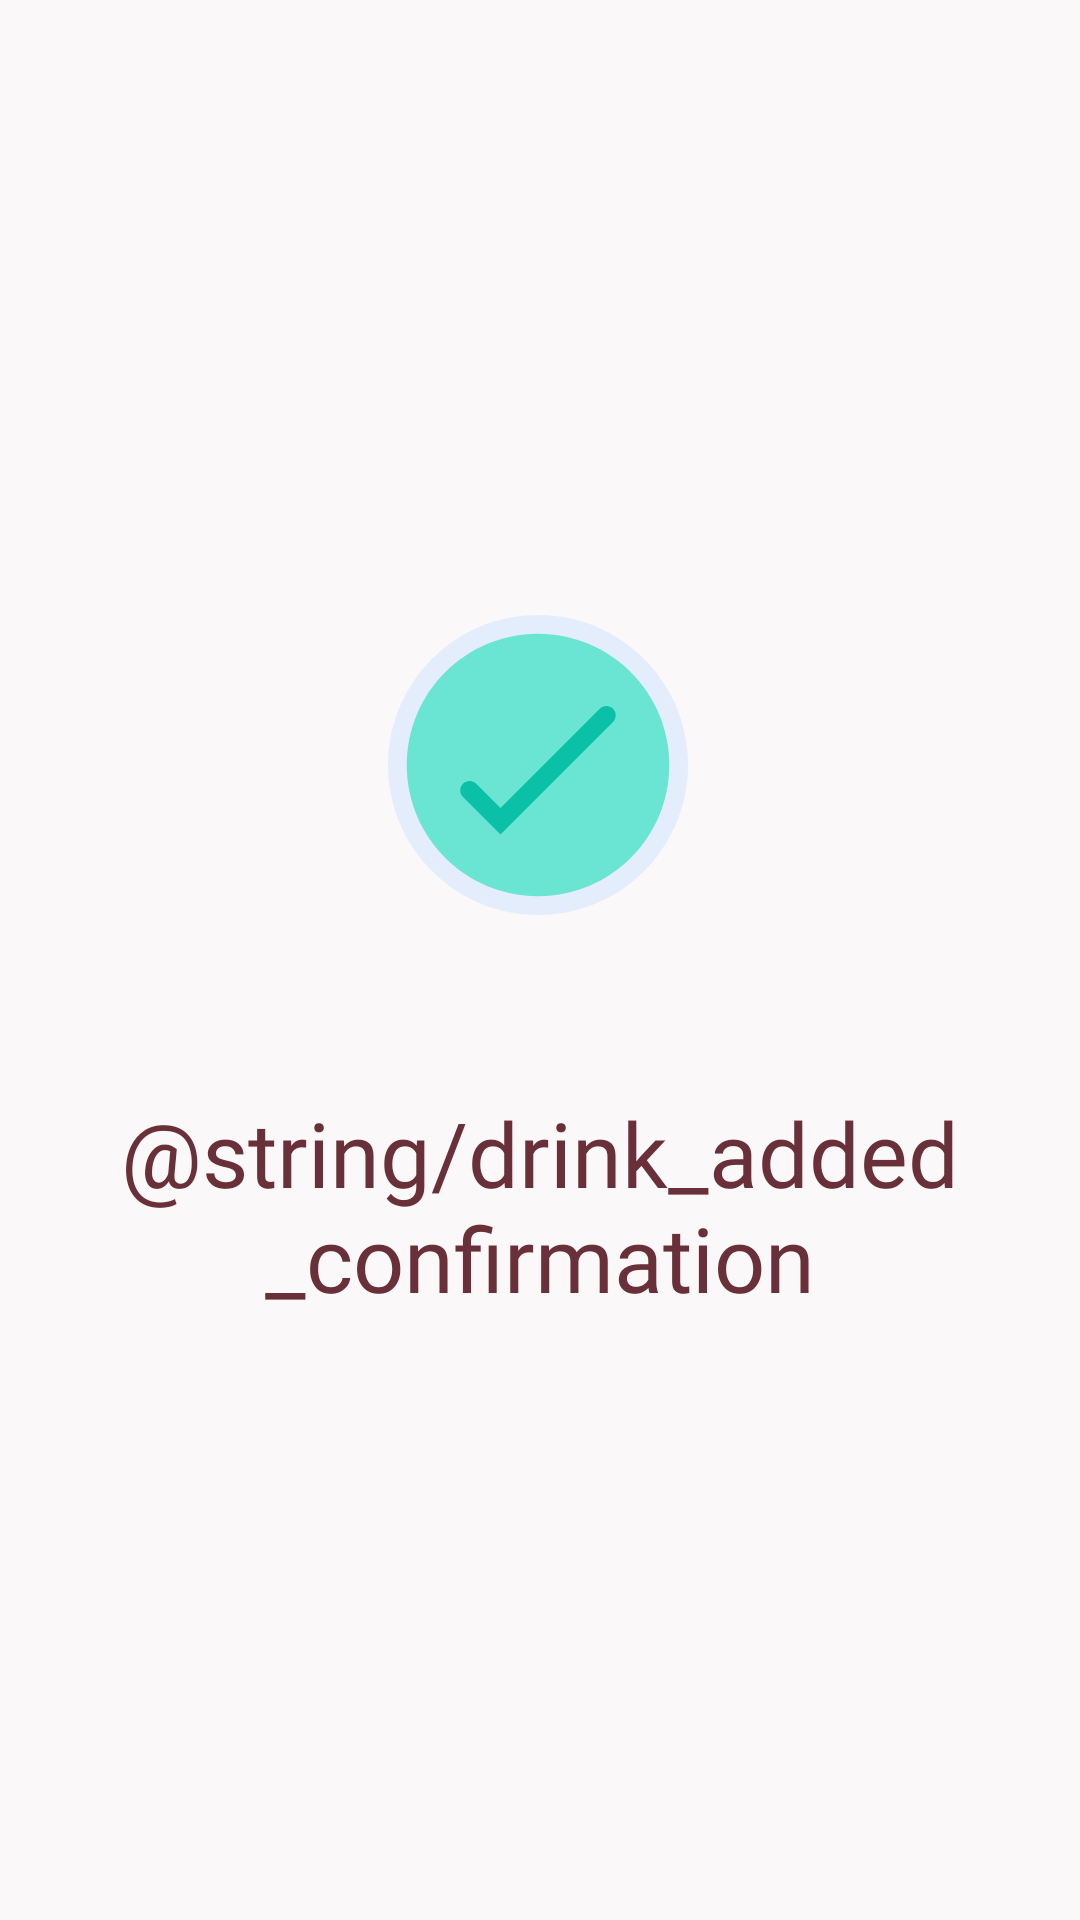

Locate icon controls on the screen. Image size 1080w x 1920h, boxes as {"left": x1, "top": y1, "right": x2, "bottom": y2}.
correct: {"left": 406, "top": 633, "right": 670, "bottom": 897}
